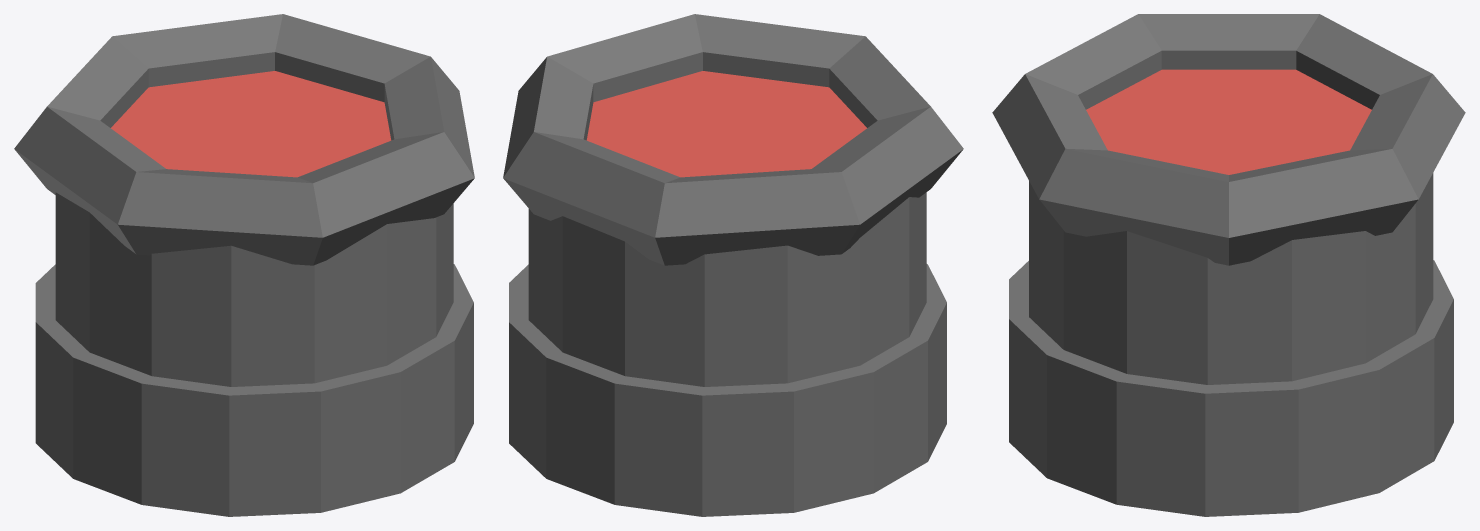
The model's file is Sacrifice.fbx.
The picture shows the model from 3 angles, left to right: view 1: azimuth 30°, elevation 25°; view 2: azimuth 150°, elevation 25°; view 3: azimuth 270°, elevation 25°; orthographic projection.
Parts seen in each view (by area): view 1: Torus; view 2: Torus; view 3: Torus.
Boxes of the visible parts, bbox=[...] form: Torus: bbox=[14, 14, 474, 516]; Torus: bbox=[503, 14, 963, 516]; Torus: bbox=[992, 14, 1465, 516].
Bounding box in the file's own units: 240 × 187 × 244.
